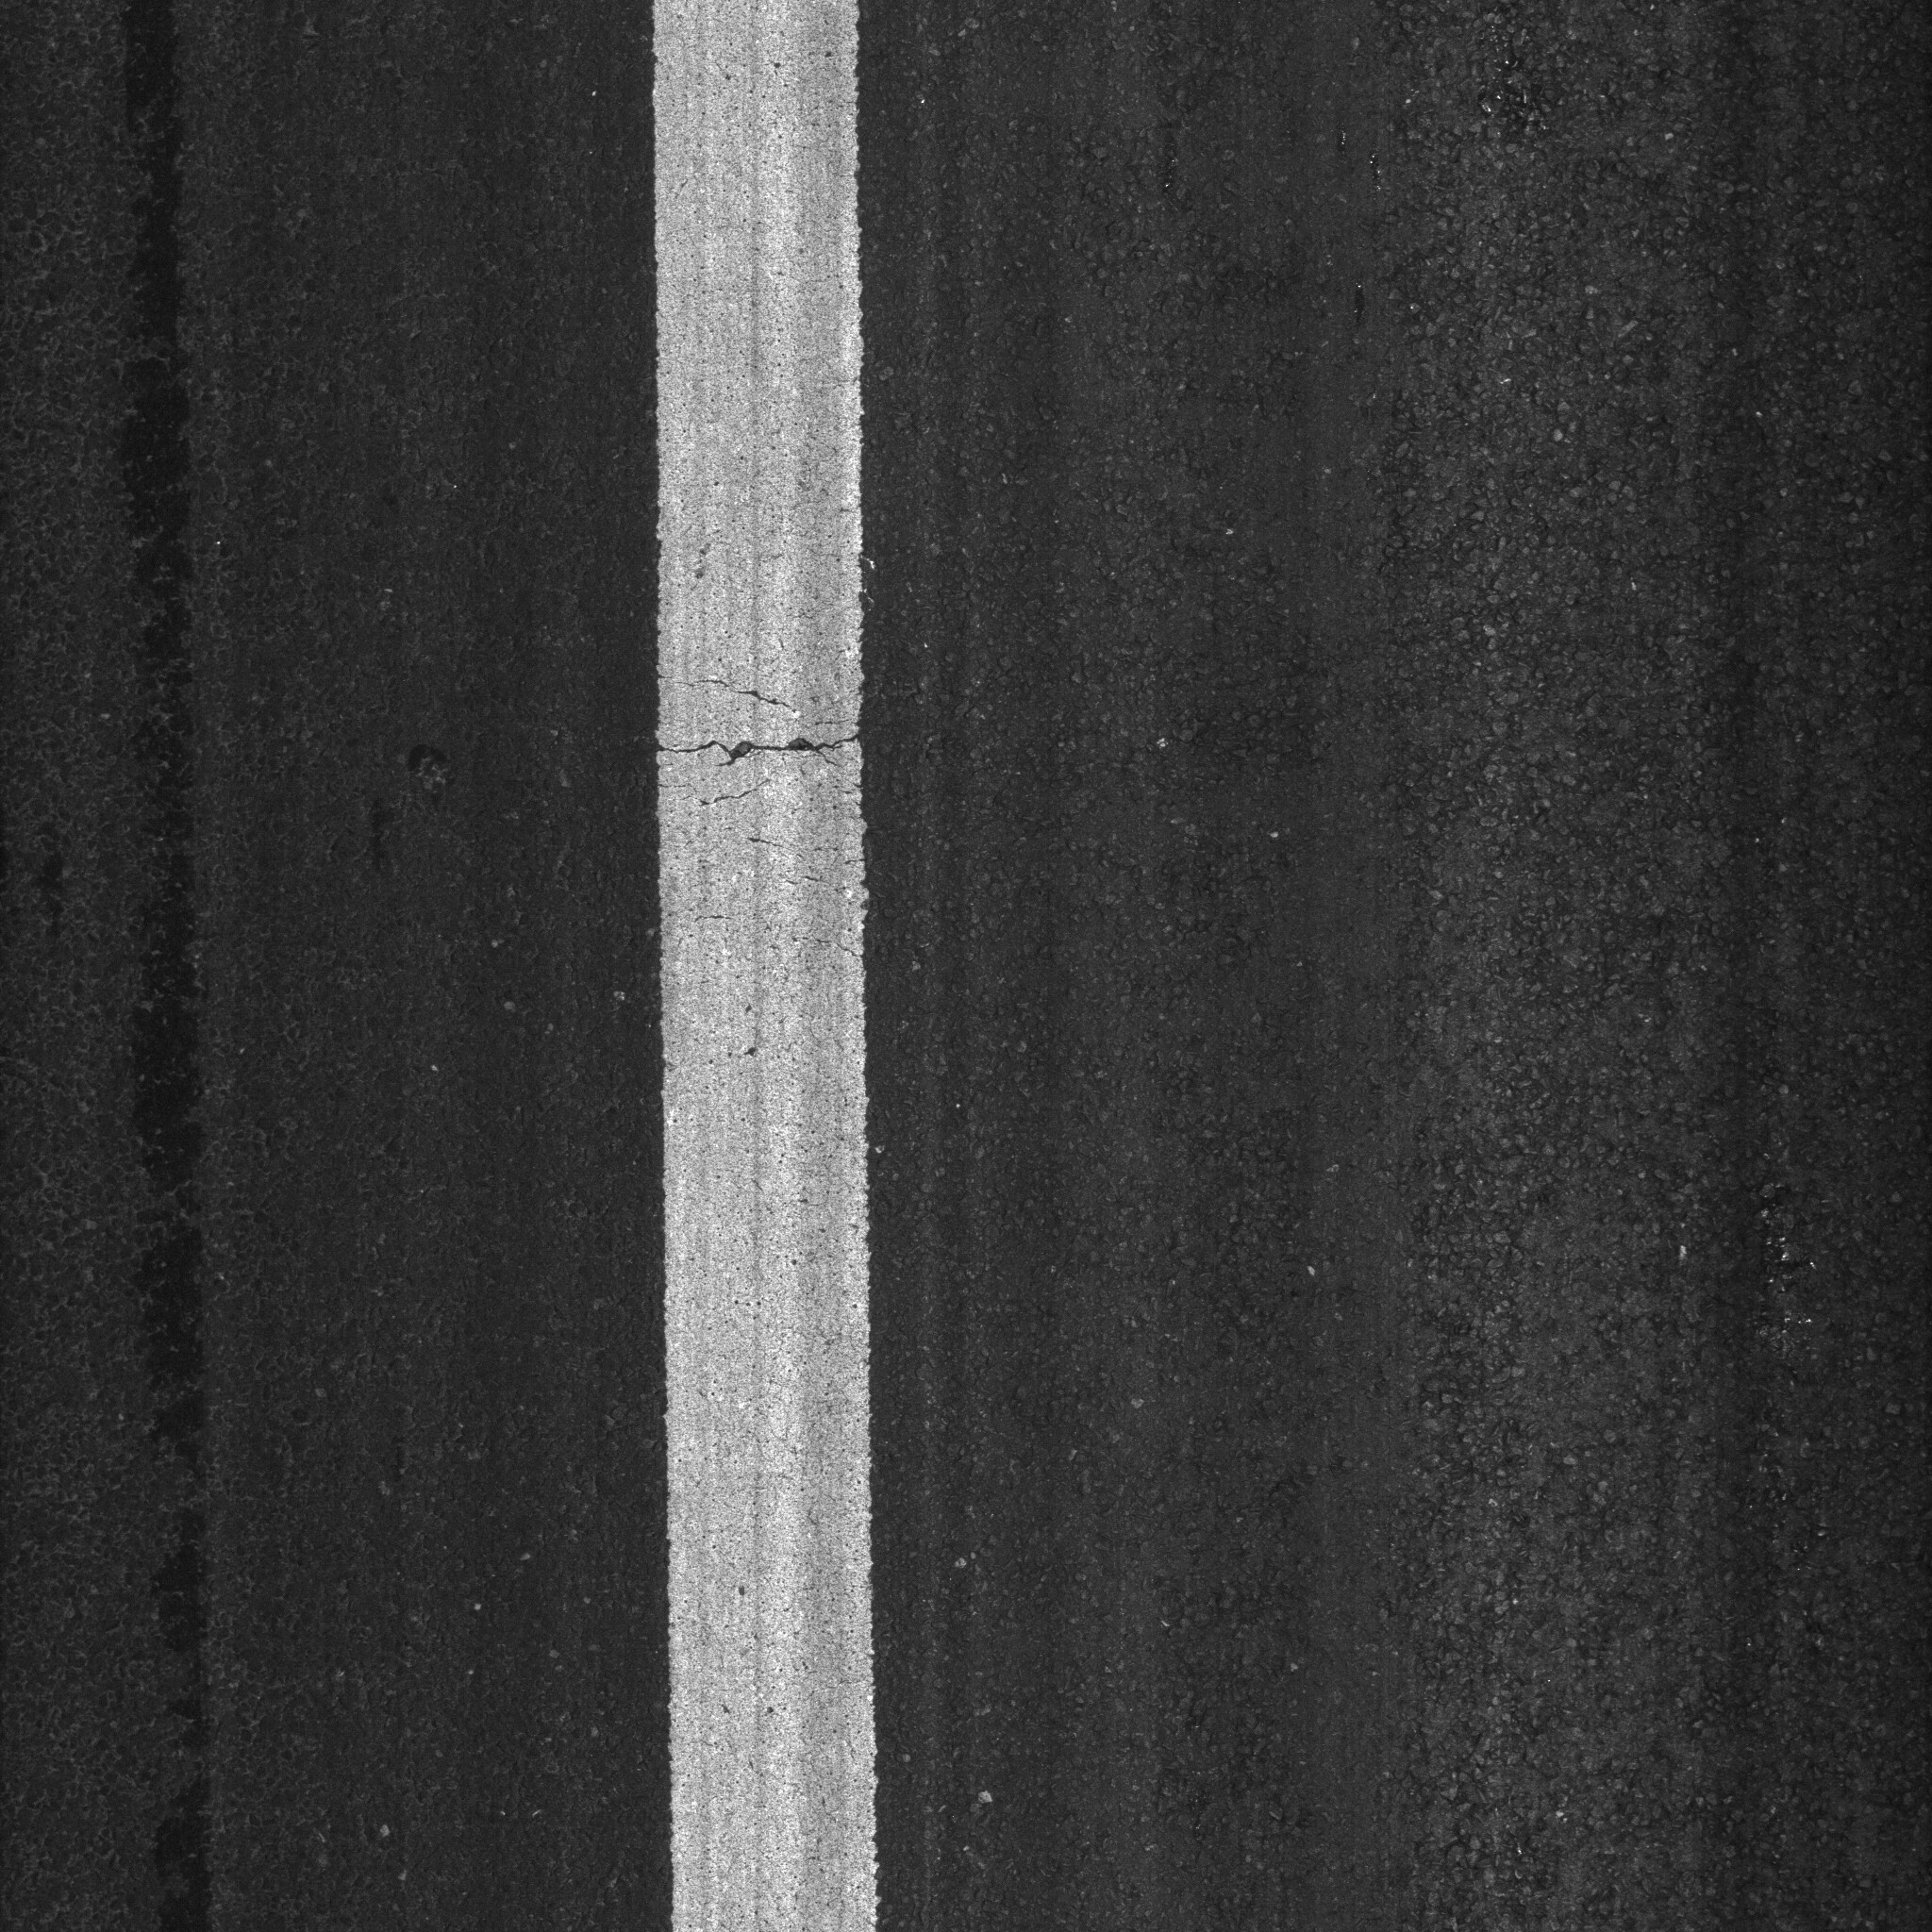transeverse: (625, 704, 890, 791)
